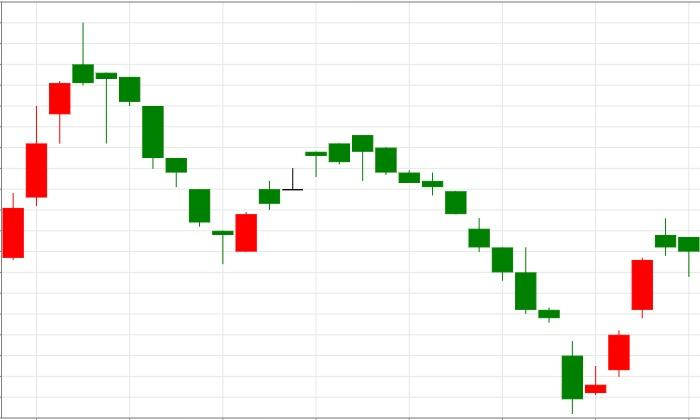shooting_star_fall: (1, 22, 94, 260)
